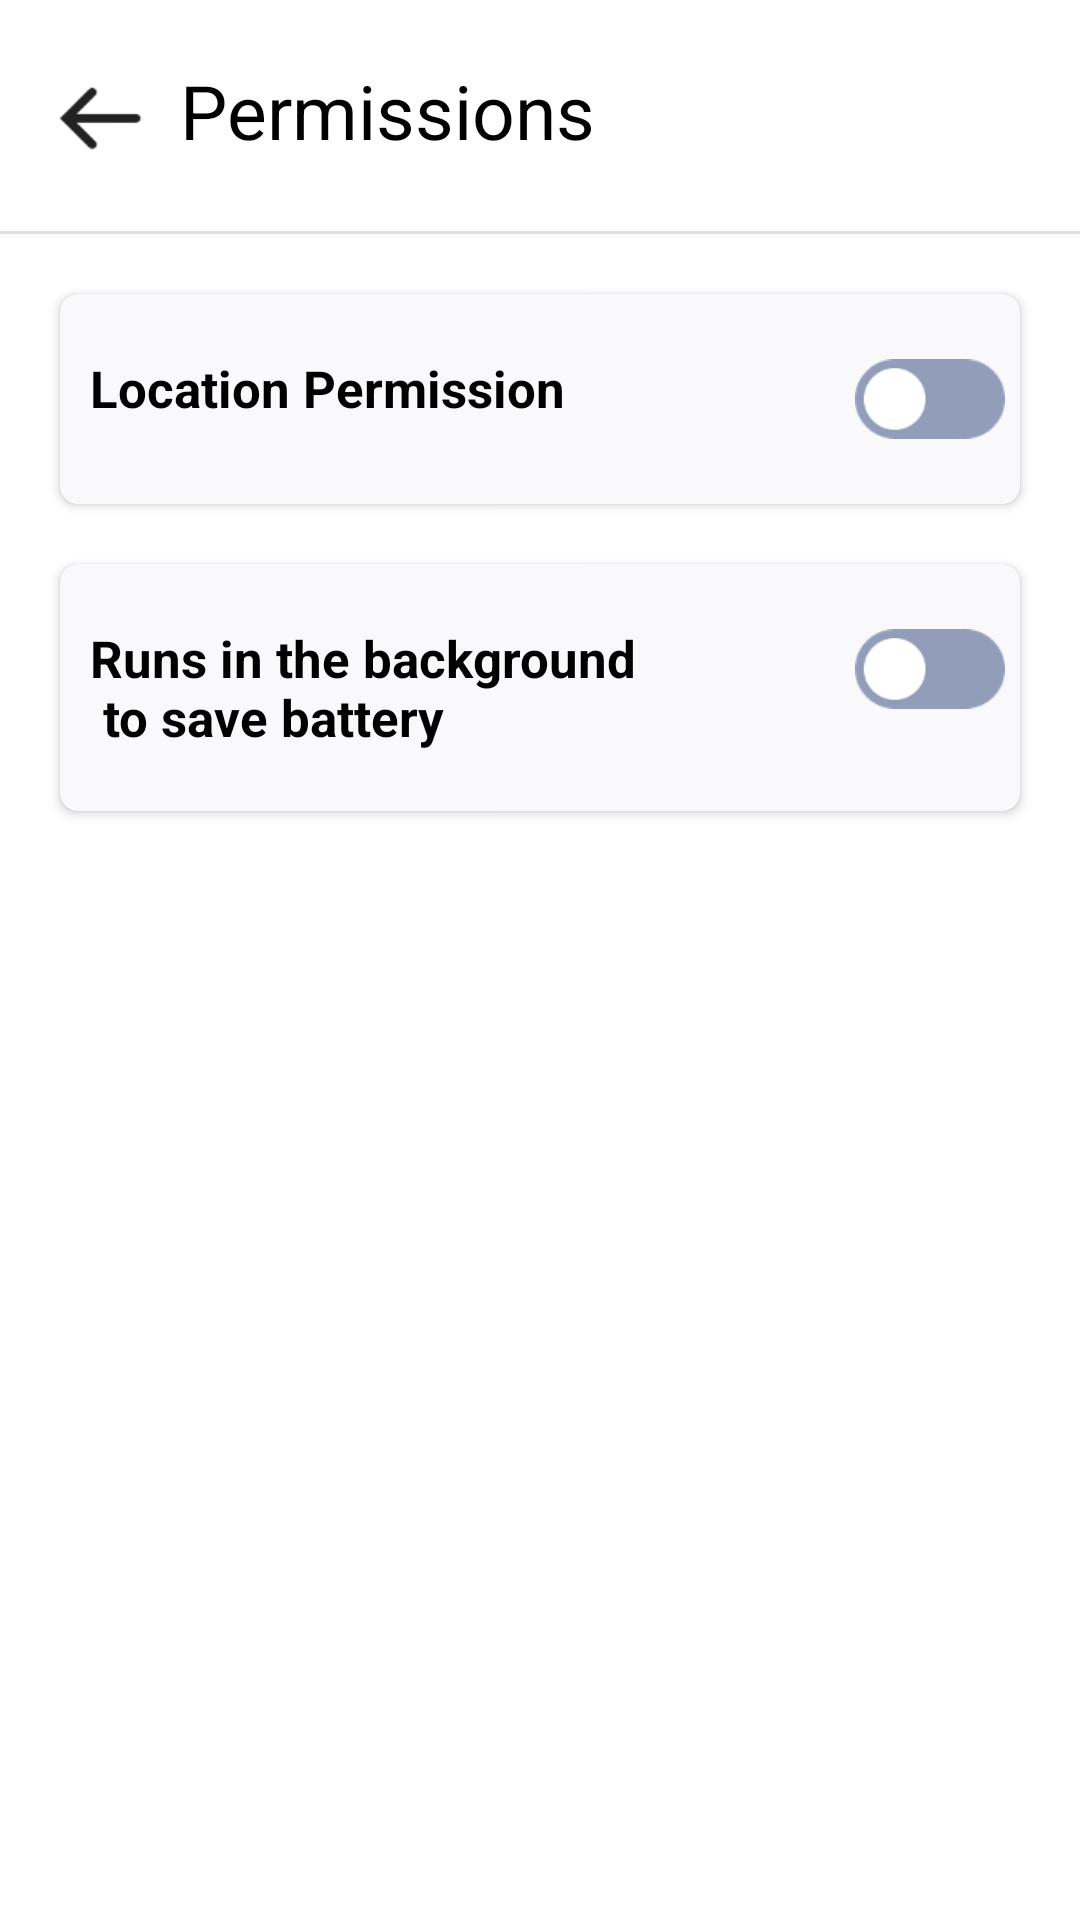

Named icons in this screenshot (1080px x 1920px) and their bounding boxes, bbox=(x1, y1, x2, y2):
back: bbox=(60, 87, 141, 150)
